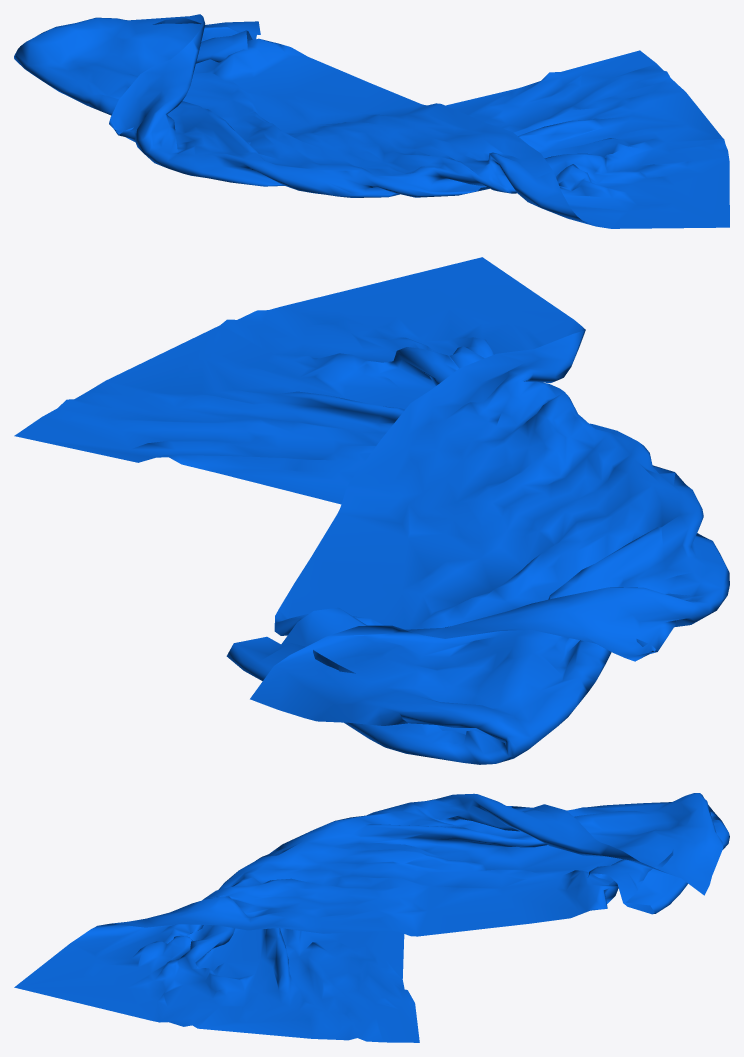
File: blanket.FBX
3 renders of one model, top to bottom at view 1: azimuth 30°, elevation 25°; view 2: azimuth 150°, elevation 25°; view 3: azimuth 270°, elevation 25°, orthographic. The views are drawn at different scales.
Parts seen in each view (by area): view 1: Plane003; view 2: Plane003; view 3: Plane003.
Boxes of the visible parts, x1,y1,x2,y2 form: Plane003: (14, 14, 729, 228); Plane003: (14, 257, 729, 764); Plane003: (14, 793, 729, 1042).
Bounding box in the file's own units: 16.6 × 0.9693 × 21.37.
